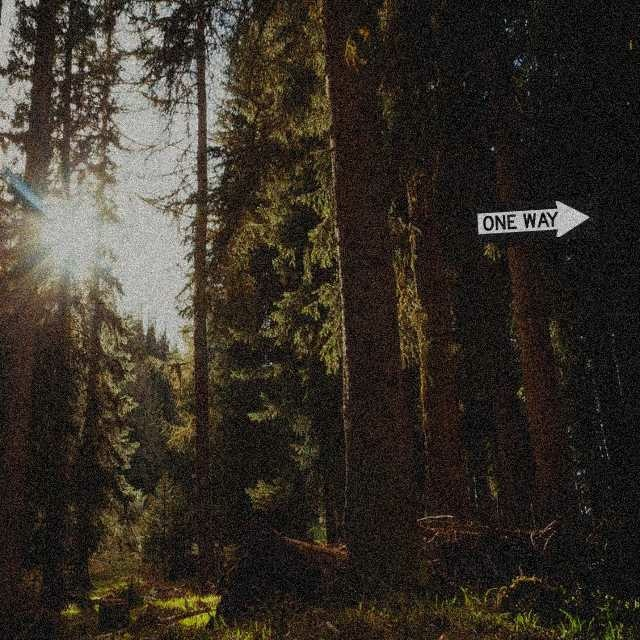ONE_WAY_ right: (469, 196, 599, 245)
